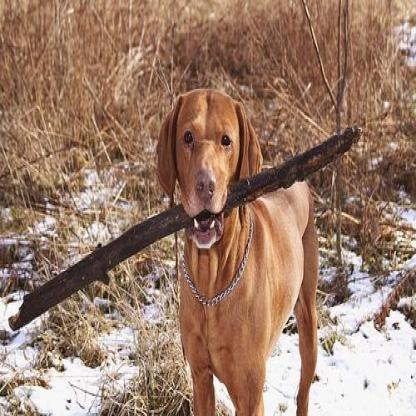vizsla: (155, 85, 318, 413)
